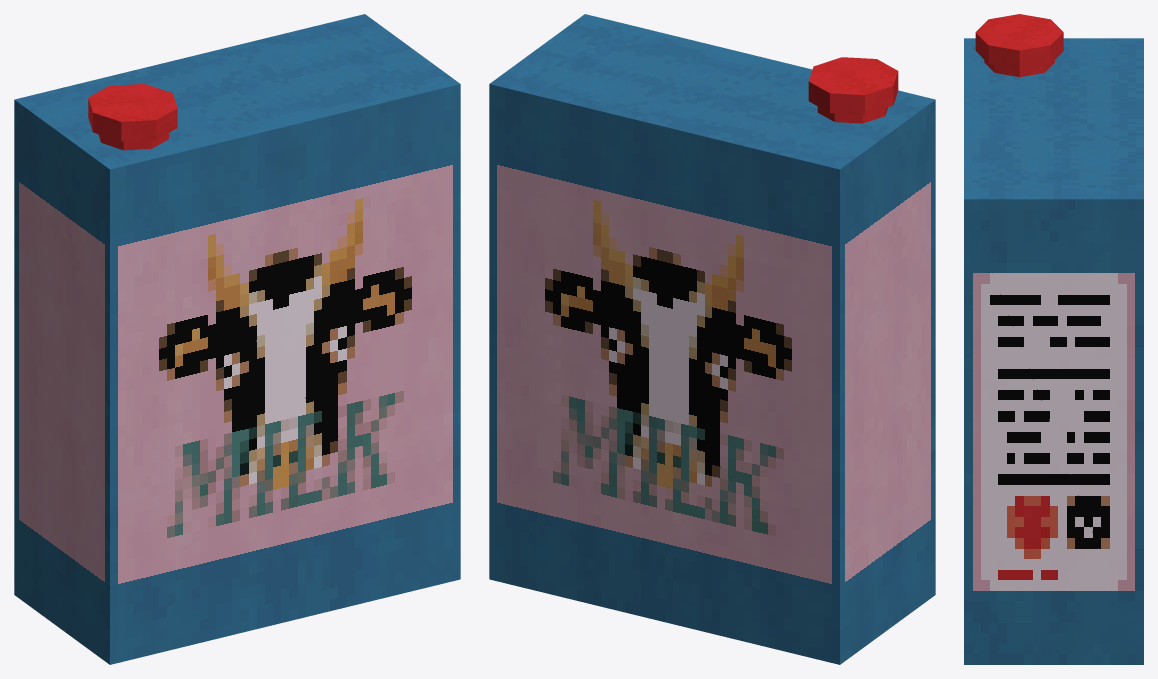
The model's file is Milk.glb.
The picture shows the model from 3 angles, left to right: view 1: azimuth 30°, elevation 25°; view 2: azimuth 150°, elevation 25°; view 3: azimuth 270°, elevation 25°; orthographic projection. The views are drawn at different scales.
Visible parts, largest first — view 1: Milk; view 2: Milk; view 3: Milk.
Part boxes in pixels (x1,y1,x2,y2): Milk: (14, 14, 460, 664); Milk: (489, 14, 935, 664); Milk: (964, 14, 1143, 664).
Bounding box in the file's own units: 0.1481 × 0.213 × 0.07.
Materials: 1 (1 with a texture image).
